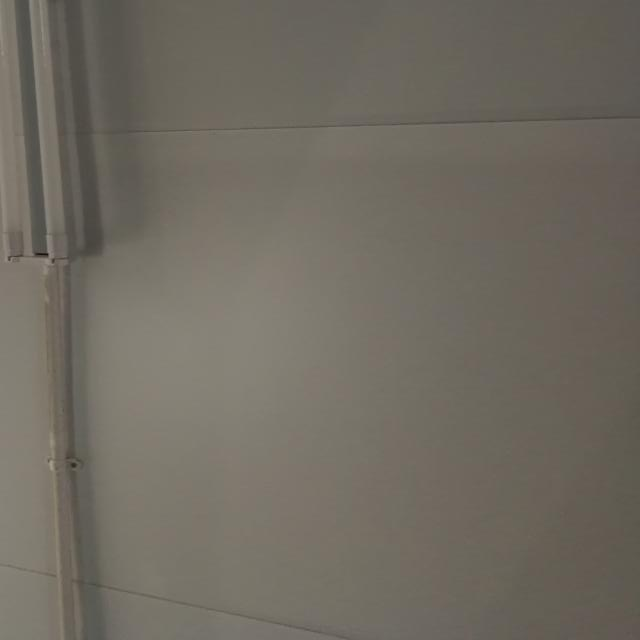fluorescent tube: (0, 0, 92, 275)
